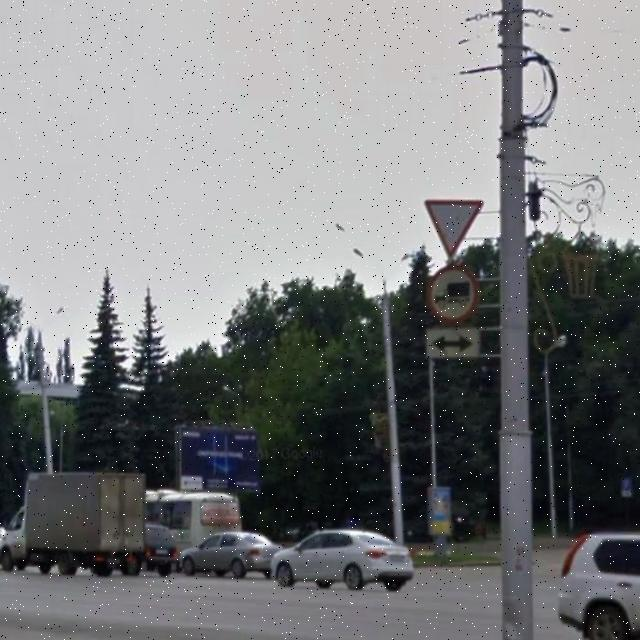Ustap pierwszenstwa: (422, 198, 486, 260)
